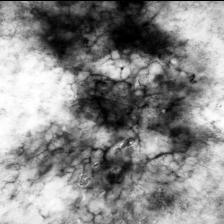Potentially Malignant Skin Tumors: (31, 0, 198, 222)
